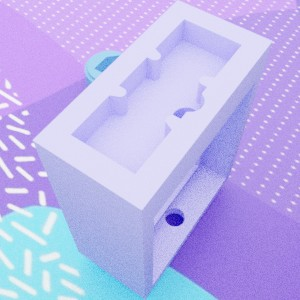lego: (32, 0, 272, 299), (84, 46, 166, 119)
